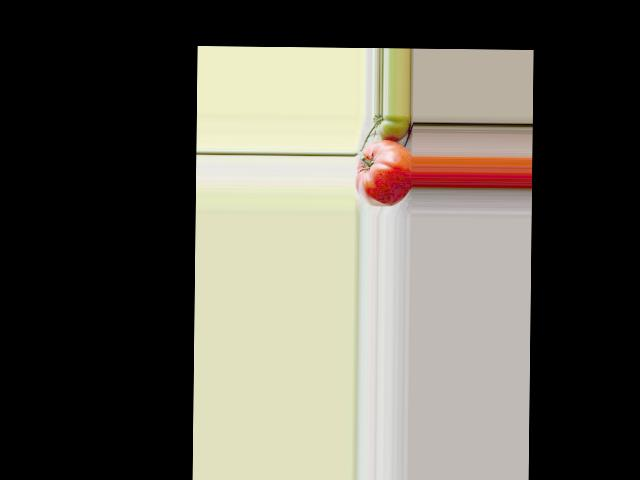tomato: (355, 140, 413, 207)
